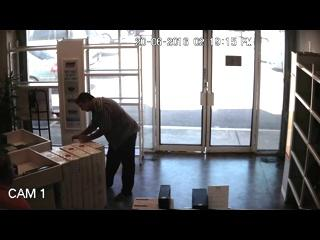Normal: (72, 92, 140, 201), (0, 152, 32, 210)
